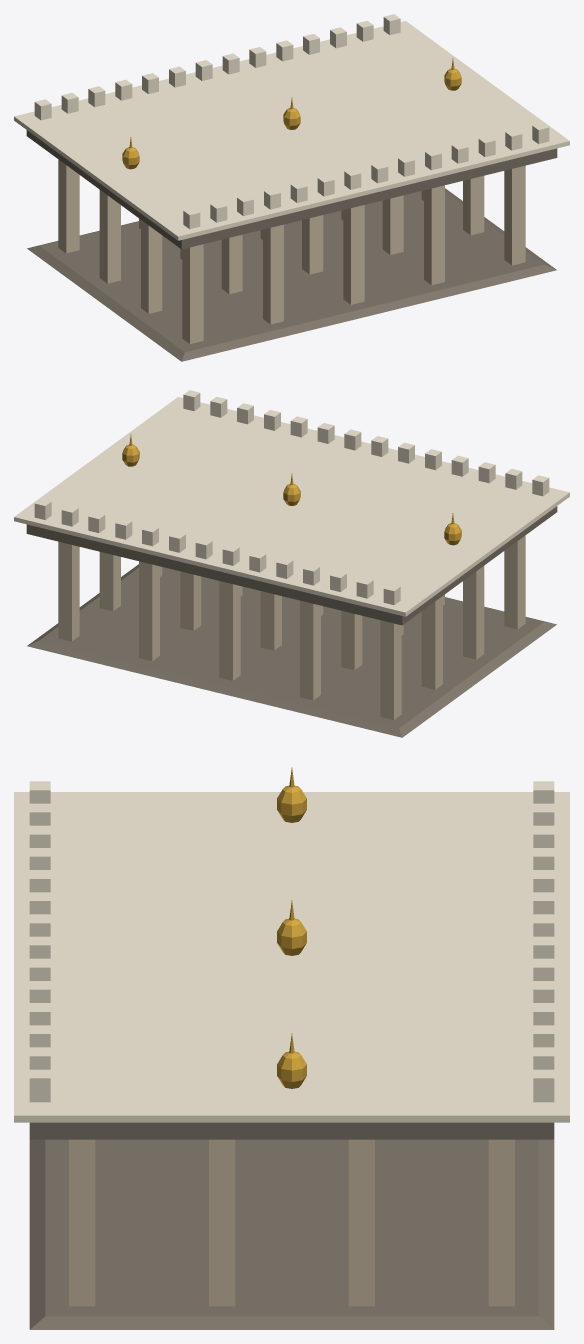
Rendered from bld_ot_mandapam.glb.
The picture shows the model from 3 angles, top to bottom: view 1: azimuth 30°, elevation 25°; view 2: azimuth 150°, elevation 25°; view 3: azimuth 270°, elevation 25°; orthographic projection. The views are drawn at different scales.
Visible parts, largest first — view 1: bld_ot_mandapam; view 2: bld_ot_mandapam; view 3: bld_ot_mandapam.
Boxes of the visible parts, left/top/right/bottom form: bld_ot_mandapam: left=14, top=14, right=569, bottom=361; bld_ot_mandapam: left=14, top=390, right=569, bottom=737; bld_ot_mandapam: left=14, top=767, right=569, bottom=1329.
Size of what is drawn, in the model's own units: 14.6 by 5.8 by 10.6.
